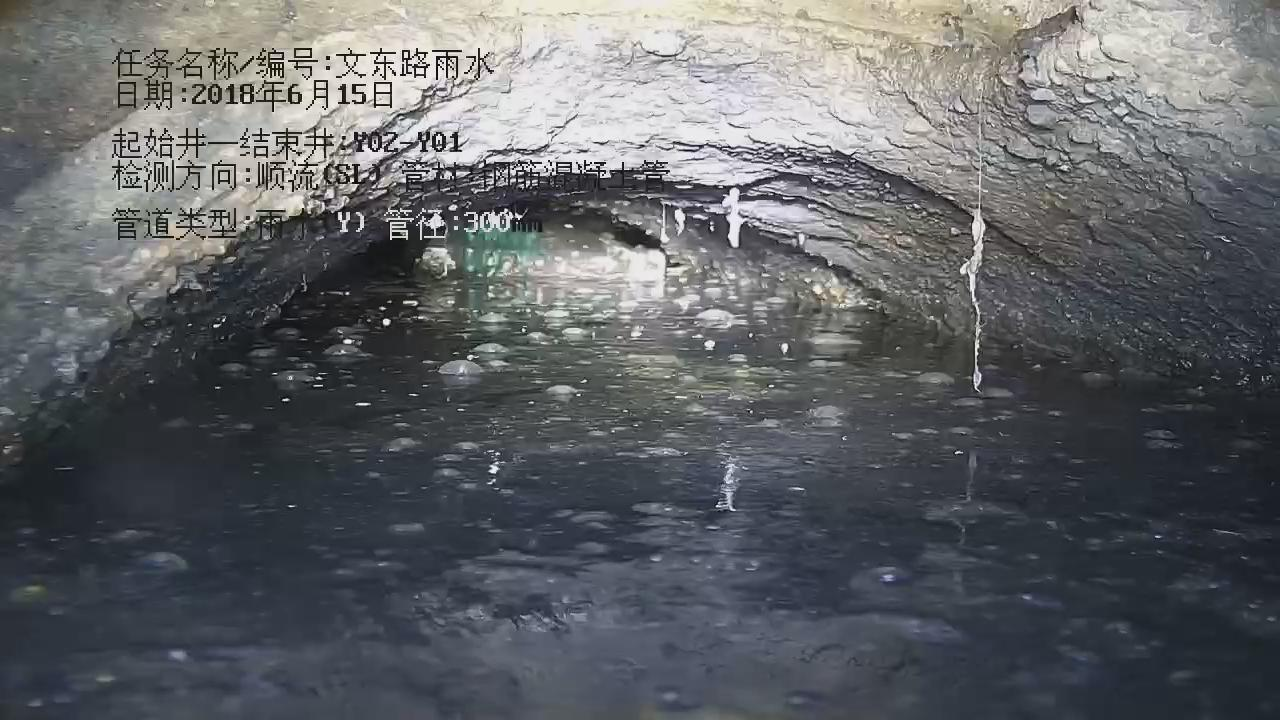FZ: (0, 233, 1279, 719)
JG: (0, 0, 1279, 466)
